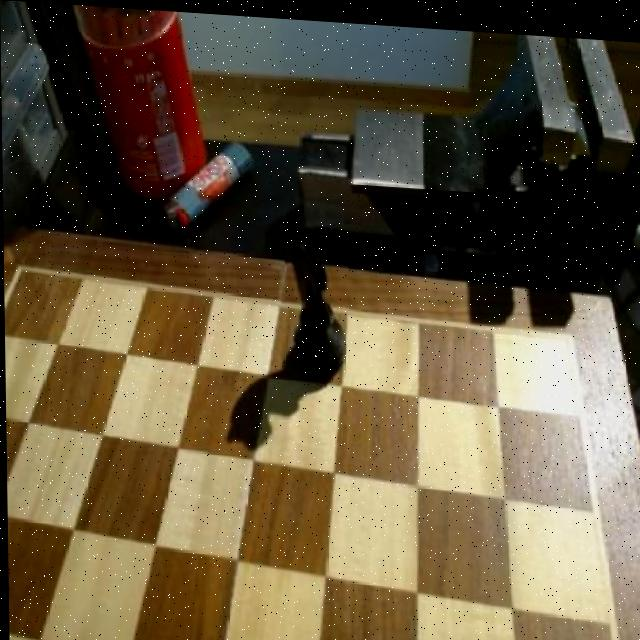black-king: (284, 221, 350, 382)
